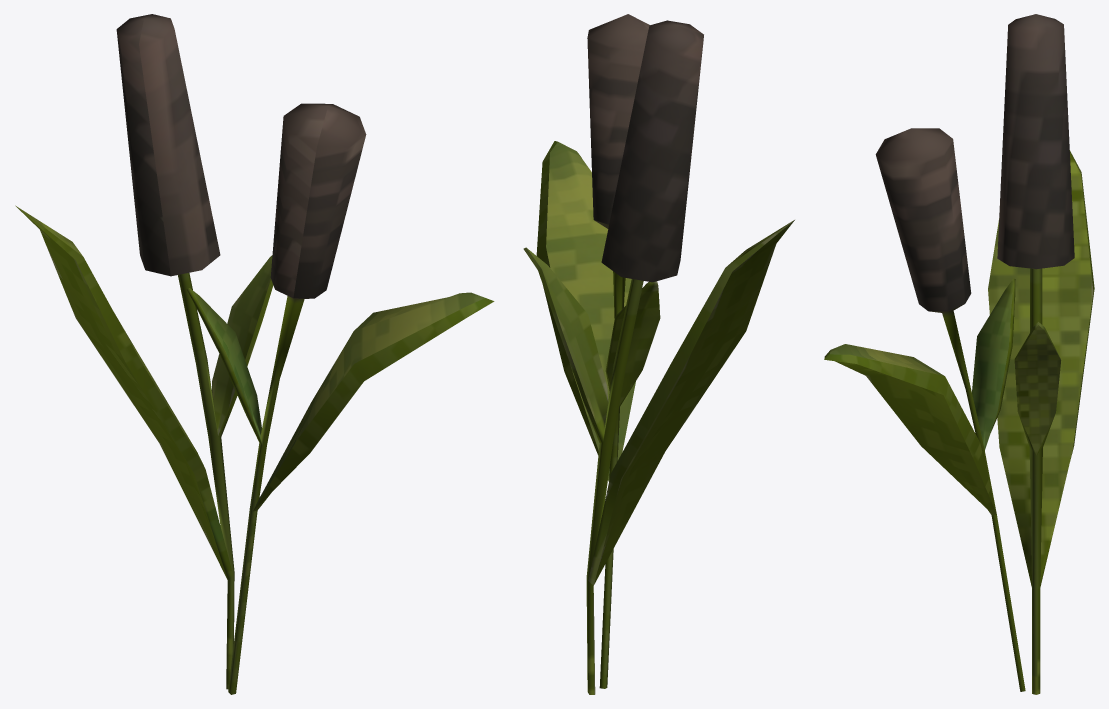
The model's file is Bulrush.fbx.
The picture shows the model from 3 angles, left to right: view 1: azimuth 30°, elevation 25°; view 2: azimuth 150°, elevation 25°; view 3: azimuth 270°, elevation 25°; orthographic projection. The views are drawn at different scales.
Visible parts, largest first — view 1: Bulrush; view 2: Bulrush; view 3: Bulrush.
Boxes of the visible parts, <box> form: Bulrush: <box>15,14,494,694</box>; Bulrush: <box>523,14,794,694</box>; Bulrush: <box>824,14,1094,694</box>.
Size of the model in its own units: 240 by 439 by 168.
